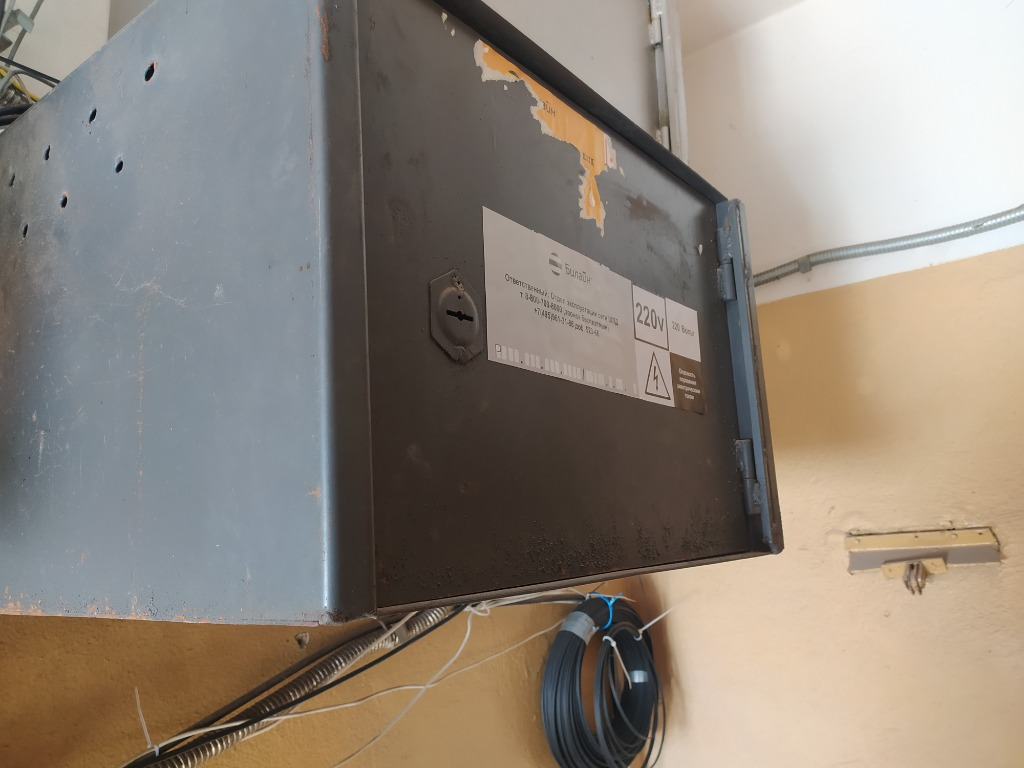e2-6u: (2, 4, 787, 630)
